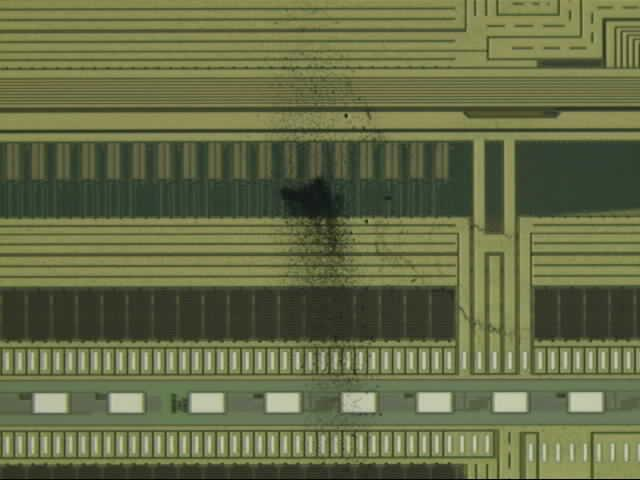PO CONTAMINATION: (264, 5, 520, 479)
